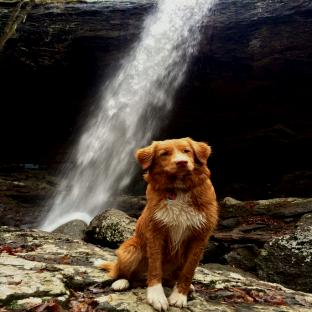Animal: (95, 137, 218, 312)
